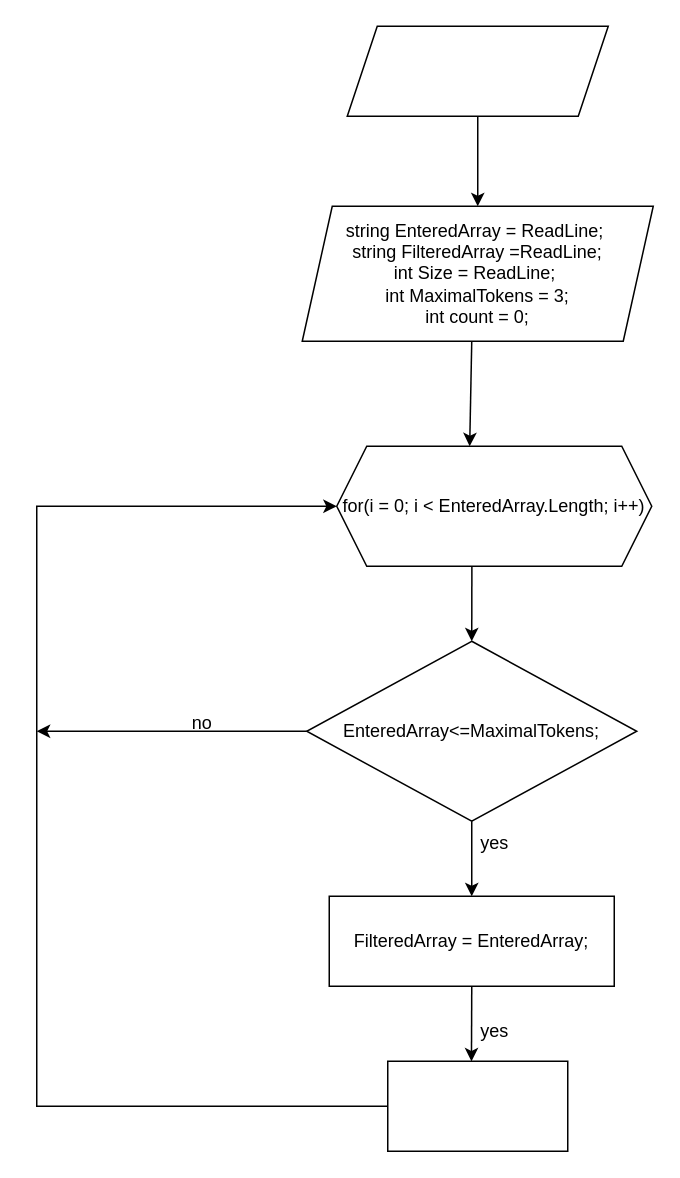
Some shapes in this 680 by 1178 pixel diagram are drawn without their labels. Here are the shapes that lost their labels. From the top down, the centre of each, then its label:
At [477,70]: "void SecondArray".
At [477,1105]: "count++;".
